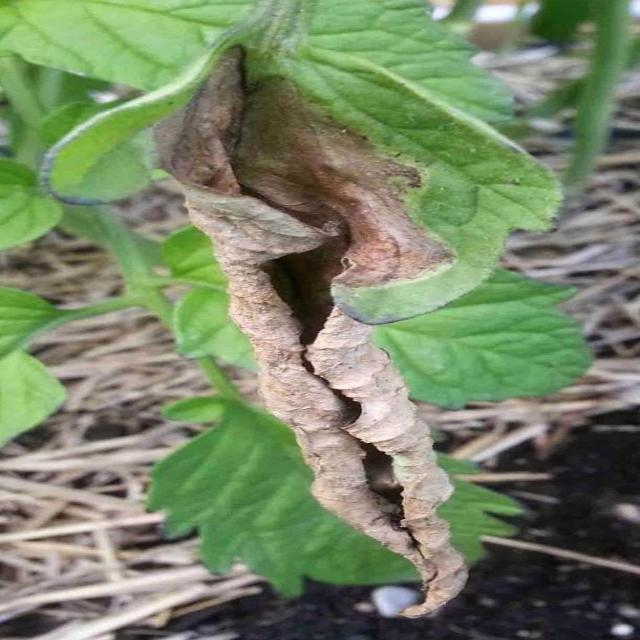unhealthy: (42, 0, 558, 617)
